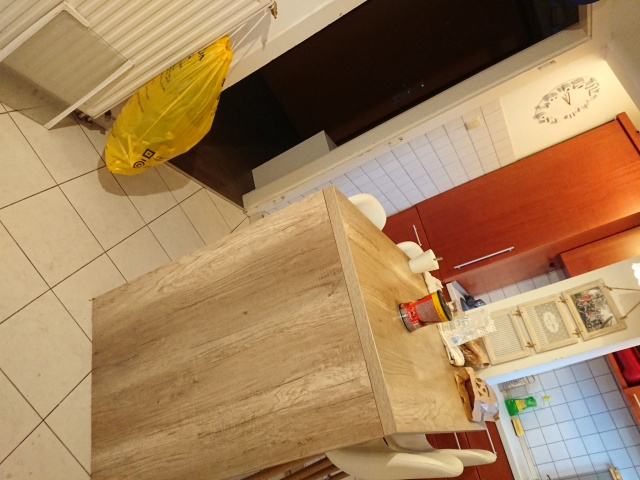Nescafe Classic 225g: (395, 287, 455, 334)
